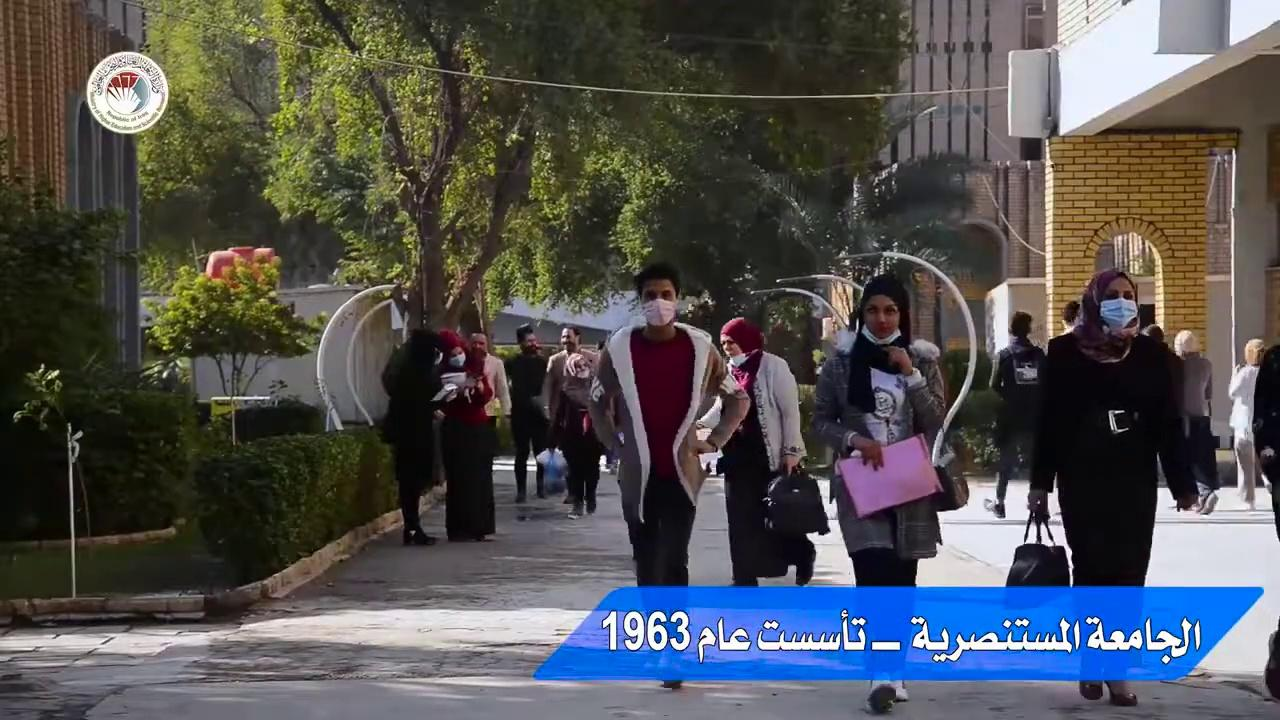person: (1026, 268, 1199, 706), (586, 262, 750, 688), (810, 273, 945, 714), (698, 316, 814, 586), (432, 330, 511, 542), (380, 327, 449, 546), (985, 310, 1047, 519), (540, 325, 602, 519), (1251, 342, 1279, 701), (1172, 329, 1219, 515), (504, 324, 550, 503), (1227, 337, 1267, 510)
tree: (244, 0, 737, 346), (0, 133, 131, 540), (749, 148, 976, 354), (144, 245, 328, 445)
